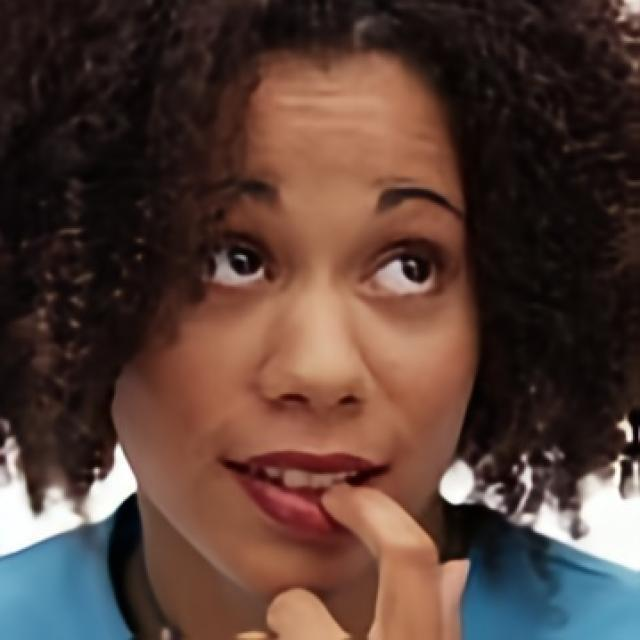surprise: (118, 42, 486, 602)
